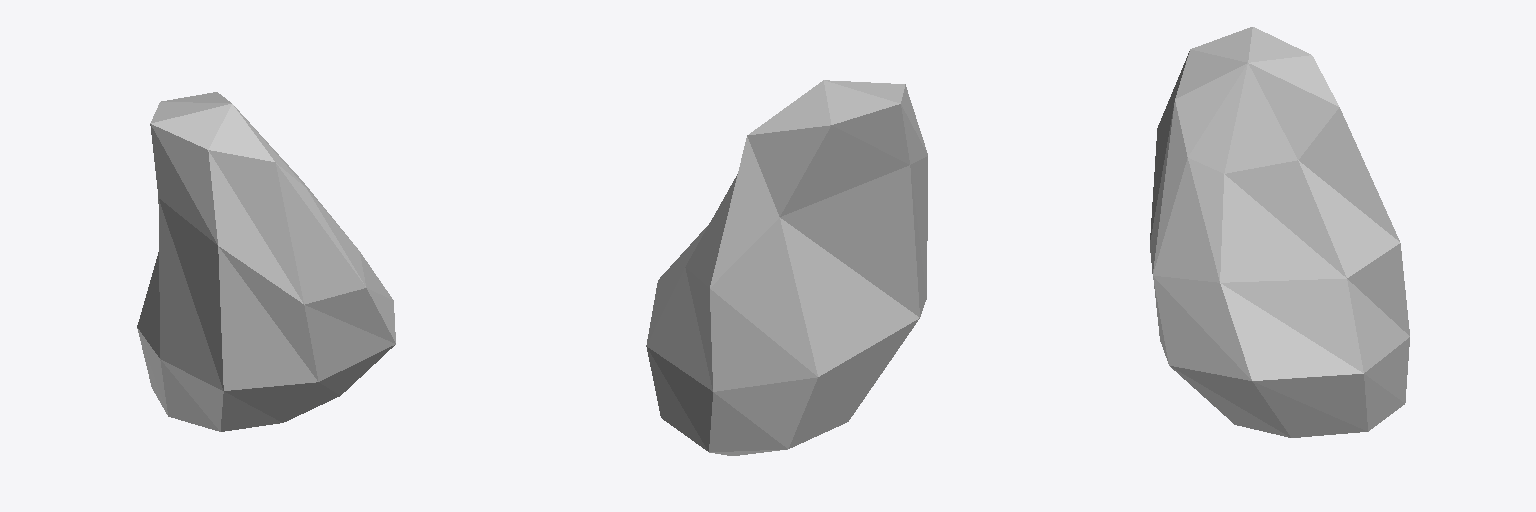
Rendered from rock_01.obj.
3 renders of one model, left to right at view 1: azimuth 30°, elevation 25°; view 2: azimuth 150°, elevation 25°; view 3: azimuth 270°, elevation 25°, orthographic.
Parts seen in each view (by area): view 1: Sphere; view 2: Sphere; view 3: Sphere.
Boxes of the visible parts, box(x1,y1,x2,y2) form: Sphere: box(137, 92, 395, 431); Sphere: box(646, 80, 927, 455); Sphere: box(1150, 27, 1409, 437).
Size of the model in its own units: 2.23 by 2.99 by 2.03.